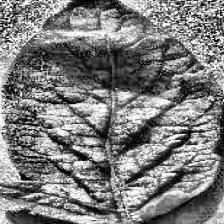spider mites: (0, 0, 223, 221)
